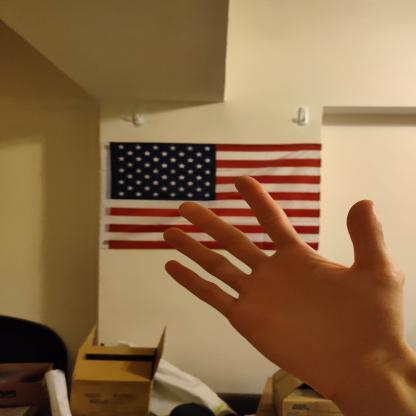bare_hand: (153, 167, 416, 415)
